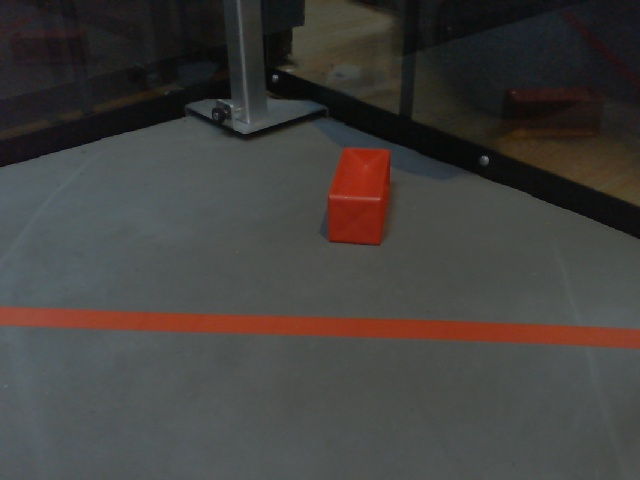RedSample: (325, 145, 394, 250)
